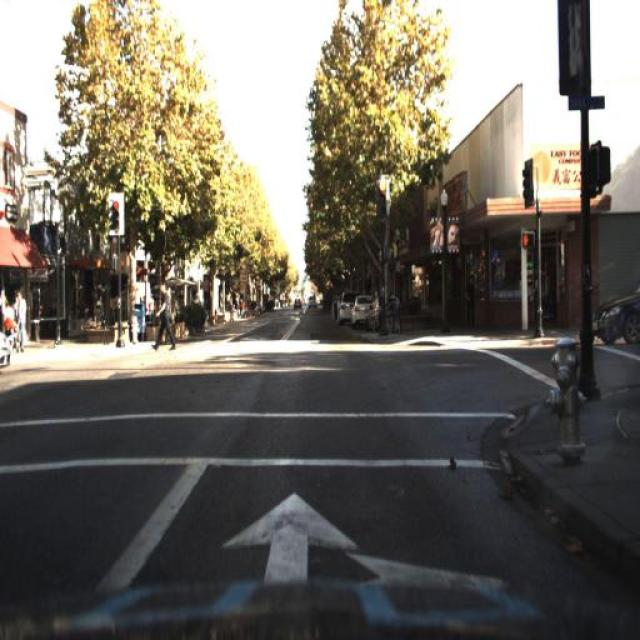car: (578, 270, 640, 358), (592, 265, 639, 356), (348, 294, 372, 334), (2, 308, 14, 377), (351, 294, 375, 324), (339, 290, 350, 326), (290, 291, 304, 314), (306, 292, 320, 314)
trafficLight: (144, 270, 174, 354), (462, 268, 477, 332), (465, 272, 479, 324), (240, 292, 248, 329)
trafficLight-RedLeft: (108, 192, 124, 240), (107, 197, 123, 239), (376, 174, 386, 222)
